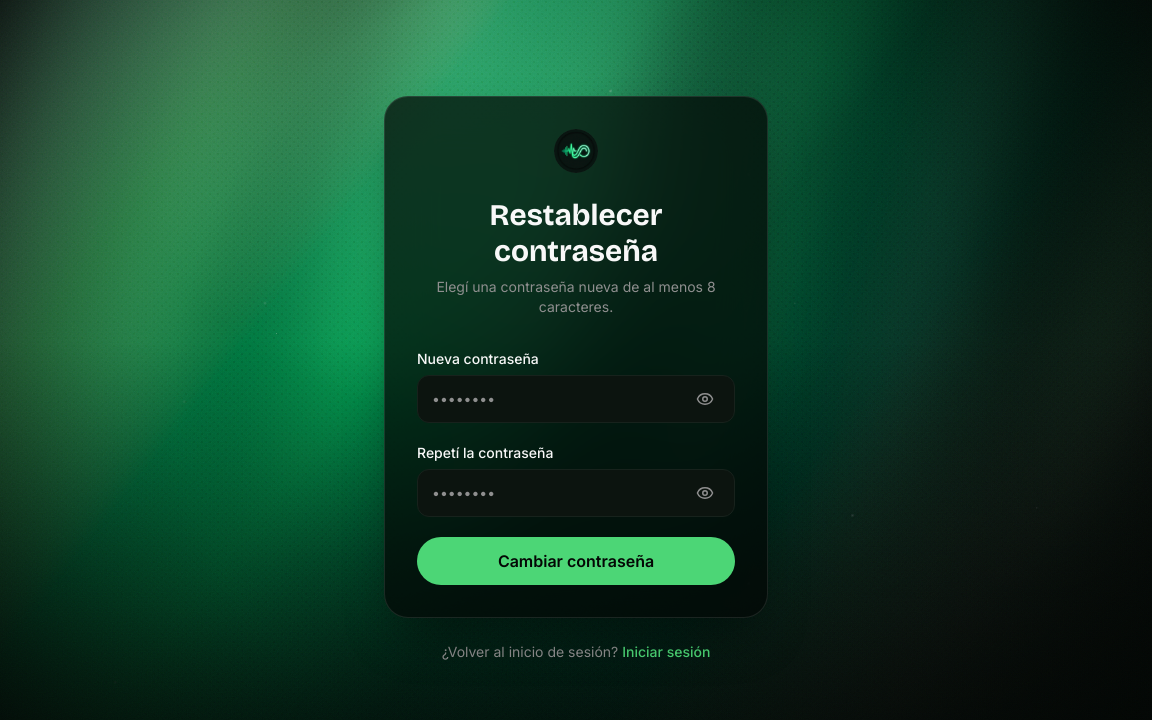
Test: ResetPasswordForm › token inválido del backend: mensaje de enlace vencido + link al login
The image size is (1152, 720).
Type "12345678" into the password field labelled "Nueva contraseña".
click(554, 399); type("12345678")  # box [418,389,690,409]
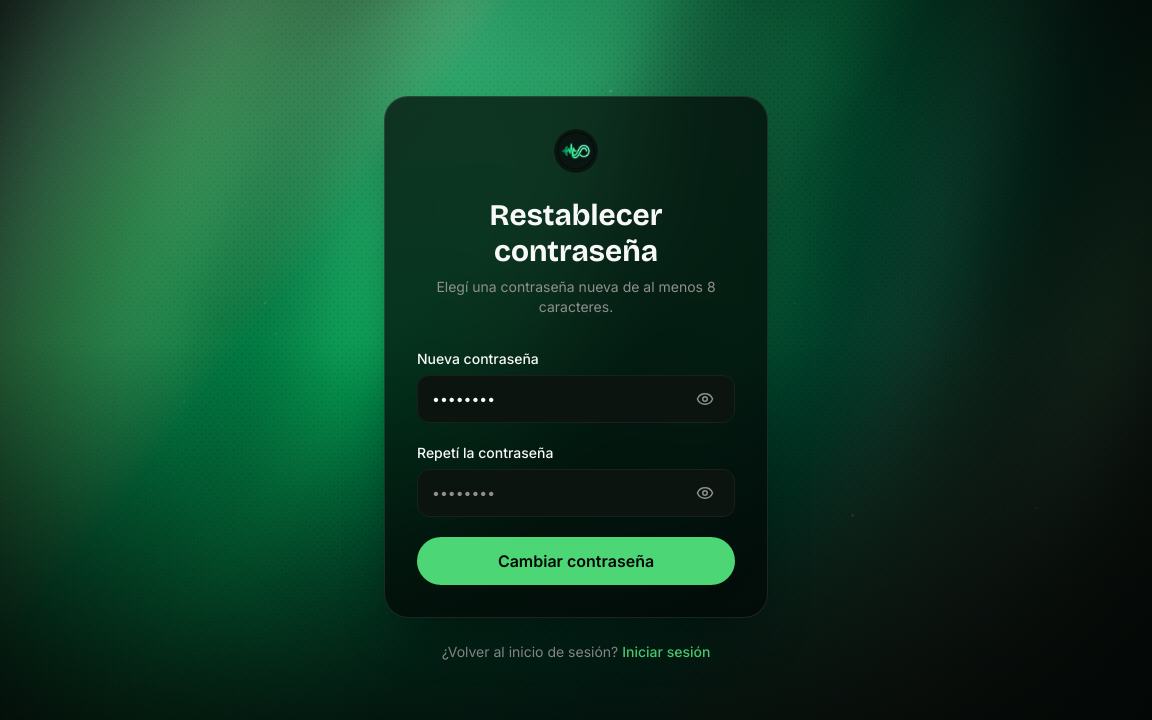
Type "12345678" into the password field labelled "Repetí la contraseña".
click(554, 493); type("12345678")  # box [418,483,690,503]
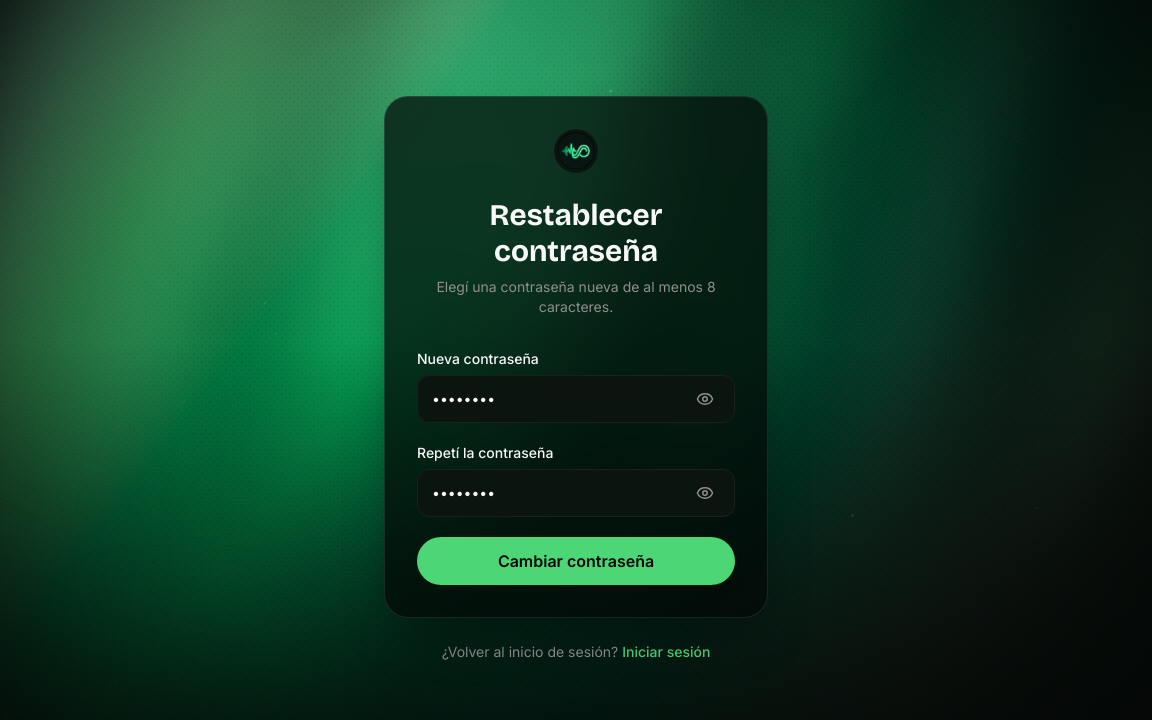
Submit the form "Cambiar contraseña", box [417,349,735,585]
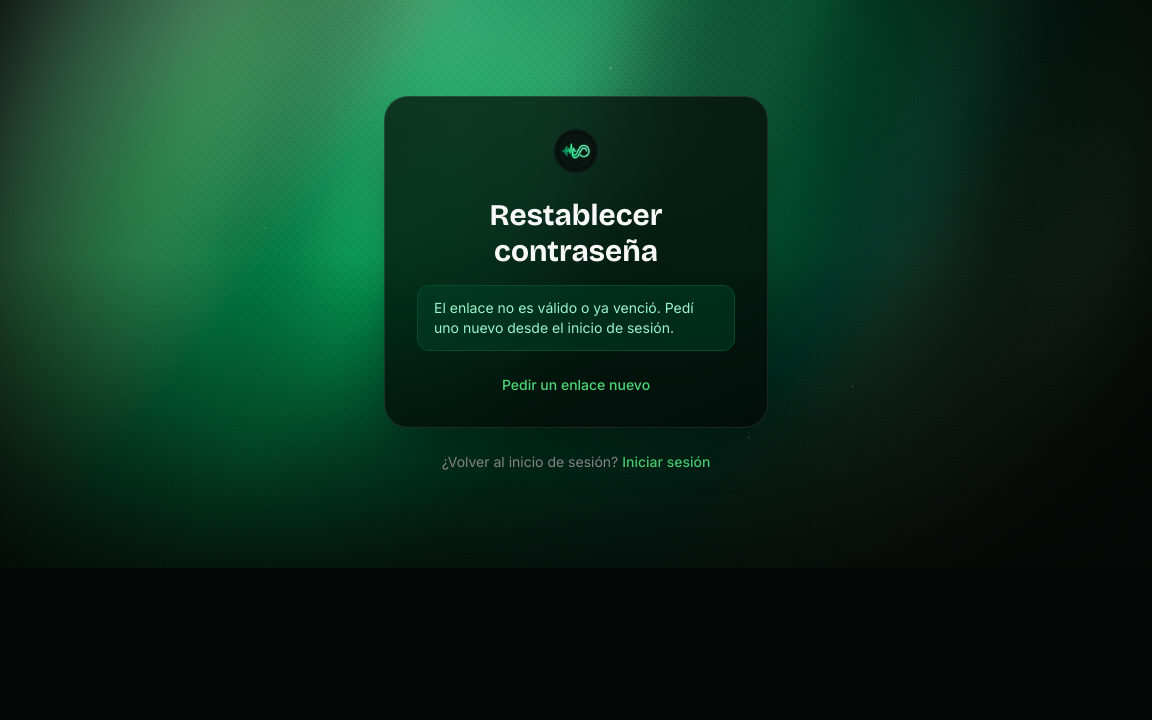
Result: the text "El enlace no es válido o ya venció. Pedí uno nuevo desde el inicio de sesión." is shown at [417,285,735,351]
Result: the label labelled "Nueva contraseña" is gone
